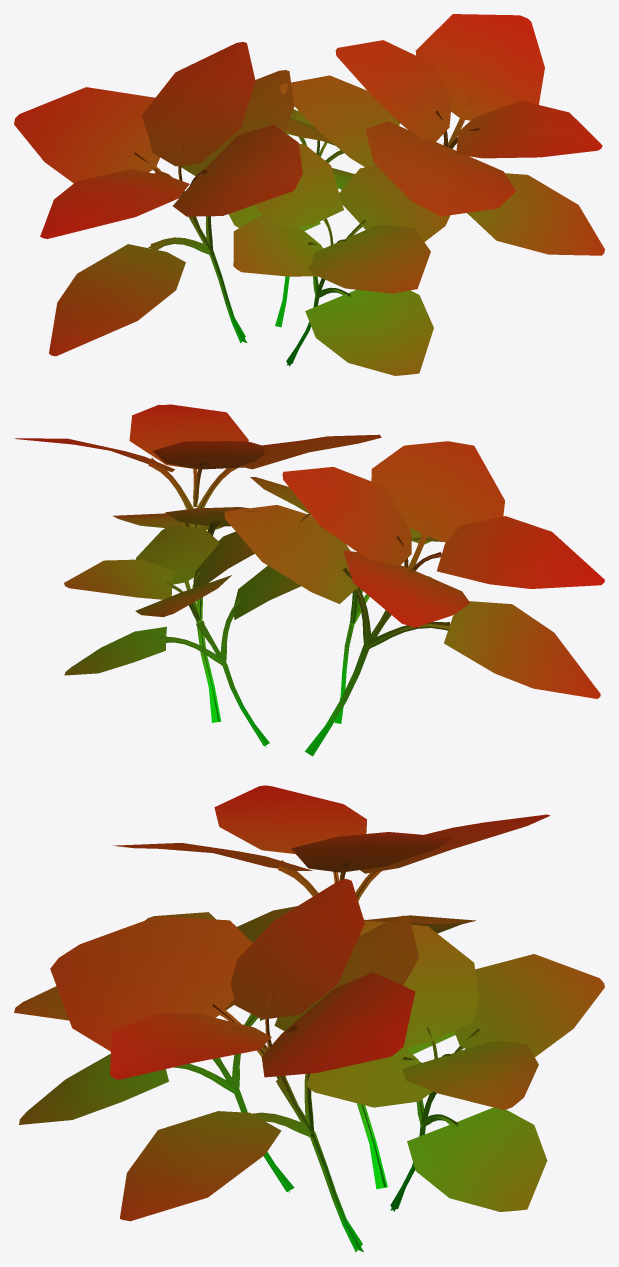
The model's file is Yellow Archangel_LOD0_Var10_wcwmcfvia.fbx.
The picture shows the model from 3 angles, top to bottom: view 1: azimuth 30°, elevation 25°; view 2: azimuth 150°, elevation 25°; view 3: azimuth 270°, elevation 25°; orthographic projection. The views are drawn at different scales.
Visible parts, largest first — view 1: _tmnv_Var10_LOD0; view 2: _tmnv_Var10_LOD0; view 3: _tmnv_Var10_LOD0.
Boxes of the visible parts, bbox=[...] form: _tmnv_Var10_LOD0: bbox=[14, 14, 604, 375]; _tmnv_Var10_LOD0: bbox=[14, 404, 604, 756]; _tmnv_Var10_LOD0: bbox=[14, 785, 604, 1252].
Size of the model in its own units: 8.86 by 4.53 by 6.66.
